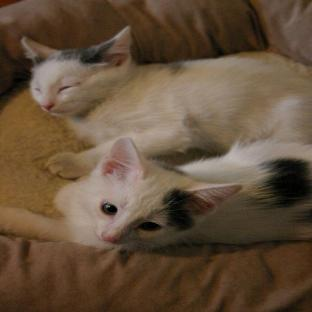Animal: (1, 27, 312, 250)
